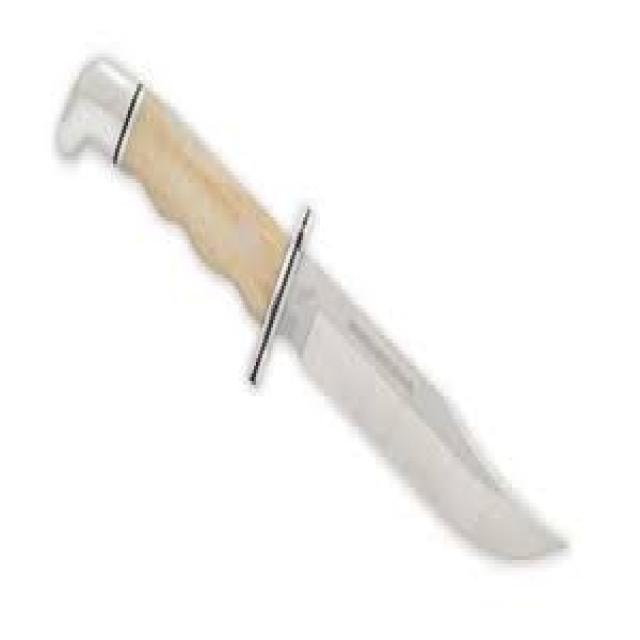knives: (51, 46, 572, 571)
